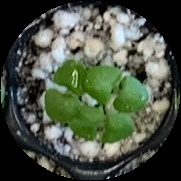Basil: (42, 54, 86, 125), (84, 67, 150, 110), (65, 107, 134, 143)
